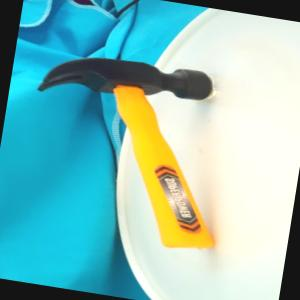martelo: (12, 45, 242, 257)
